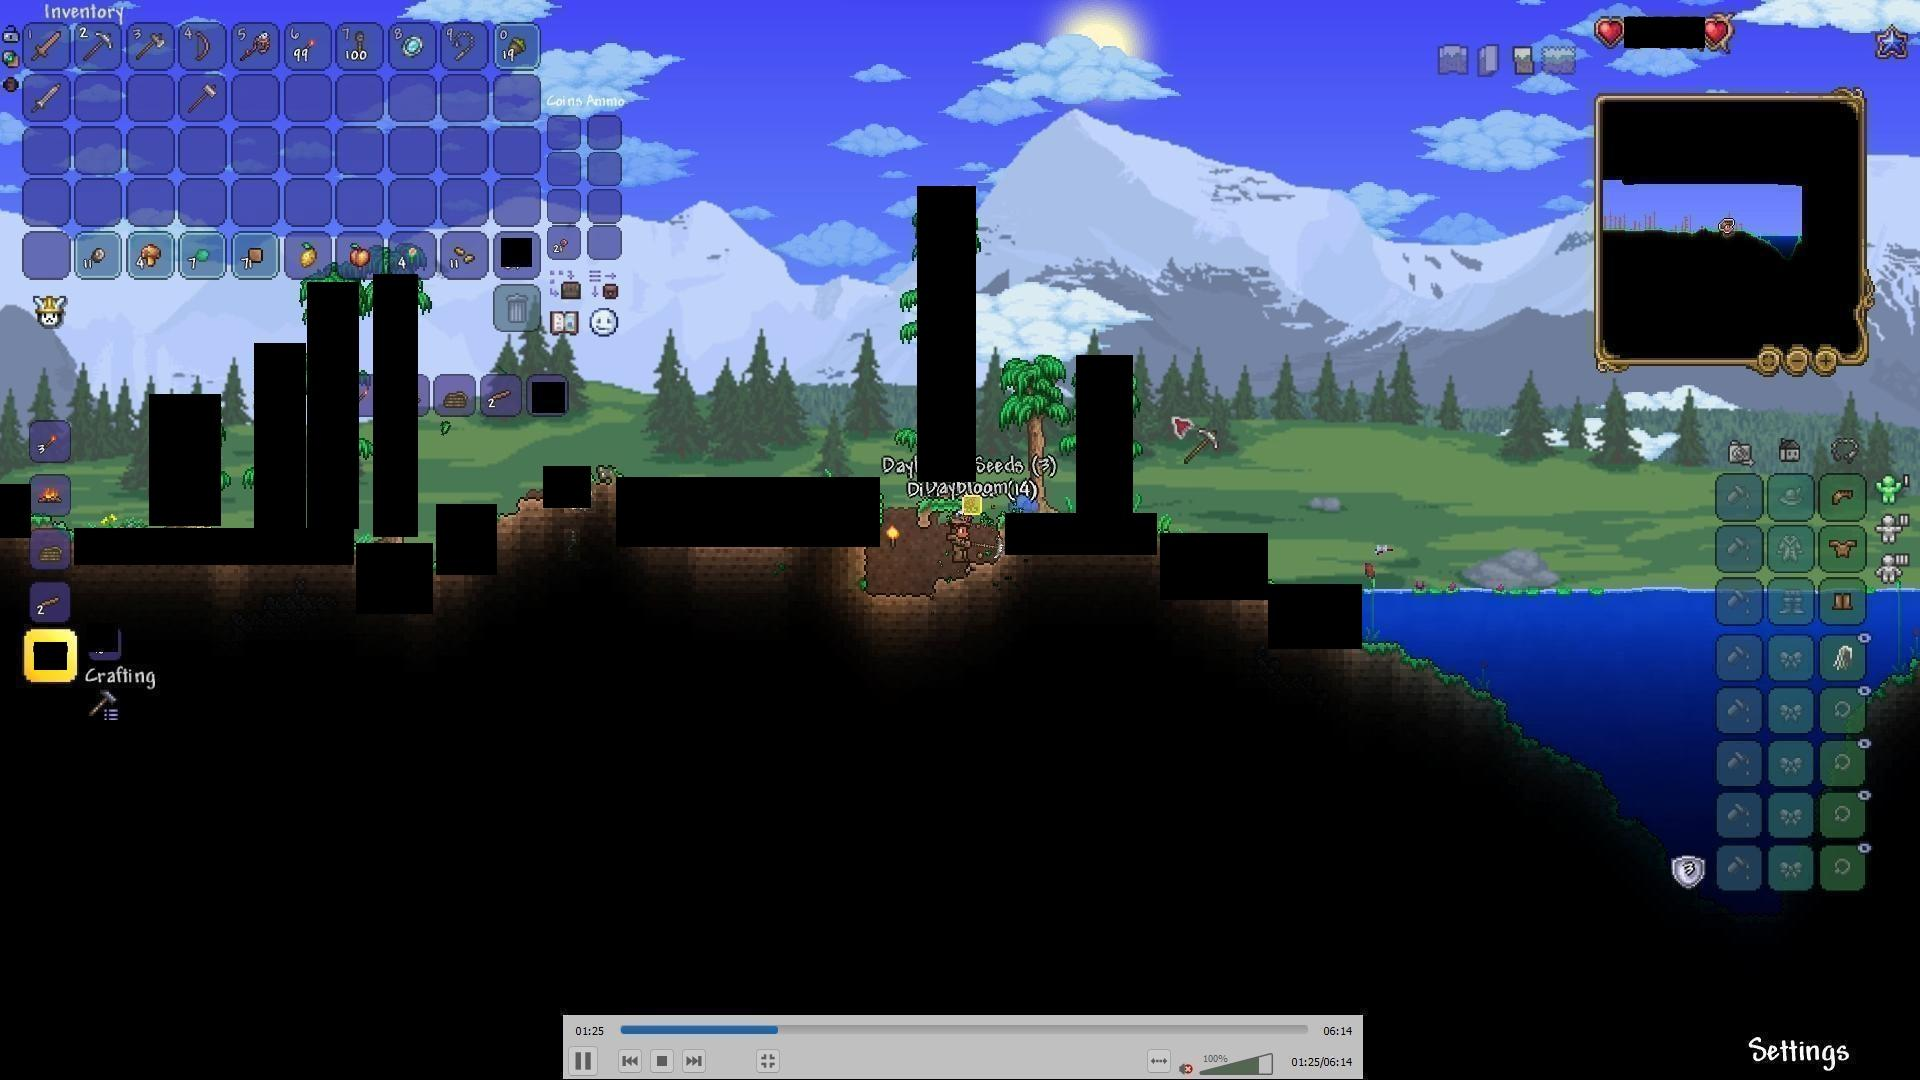breastplate: (1826, 537, 1857, 559)
dirt: (1867, 651, 1917, 723)
heart: (1597, 15, 1629, 44), (1704, 17, 1731, 47)
helmet: (1826, 481, 1862, 512)
legs: (1830, 588, 1855, 618)
slime: (1007, 483, 1042, 520)
tree: (1004, 349, 1060, 483)
